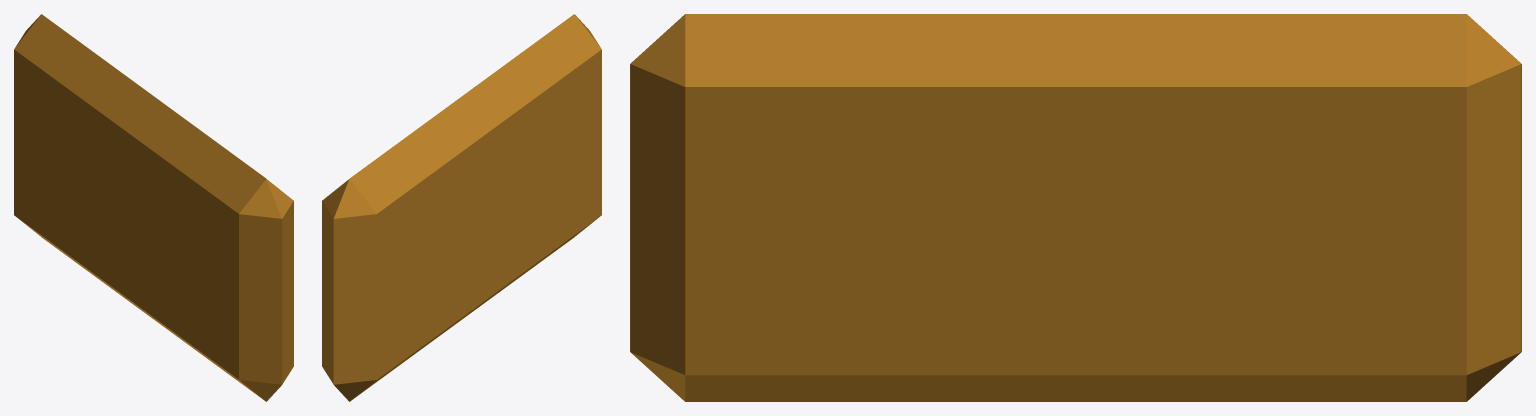
The model's file is fallWall.fbx.
3 views of the same model, side by side, from view 1: azimuth 30°, elevation 25°; view 2: azimuth 150°, elevation 25°; view 3: azimuth 270°, elevation 25° (orthographic). The views are drawn at different scales.
Visible parts, largest first — view 1: Cube; view 2: Cube; view 3: Cube.
Part boxes in pixels (x1=…): Cube: x1=14, y1=14, x2=293, y2=401; Cube: x1=322, y1=14, x2=601, y2=401; Cube: x1=630, y1=14, x2=1521, y2=401.
Bounding box in the file's own units: 0.5788 × 2.26 × 4.7.
